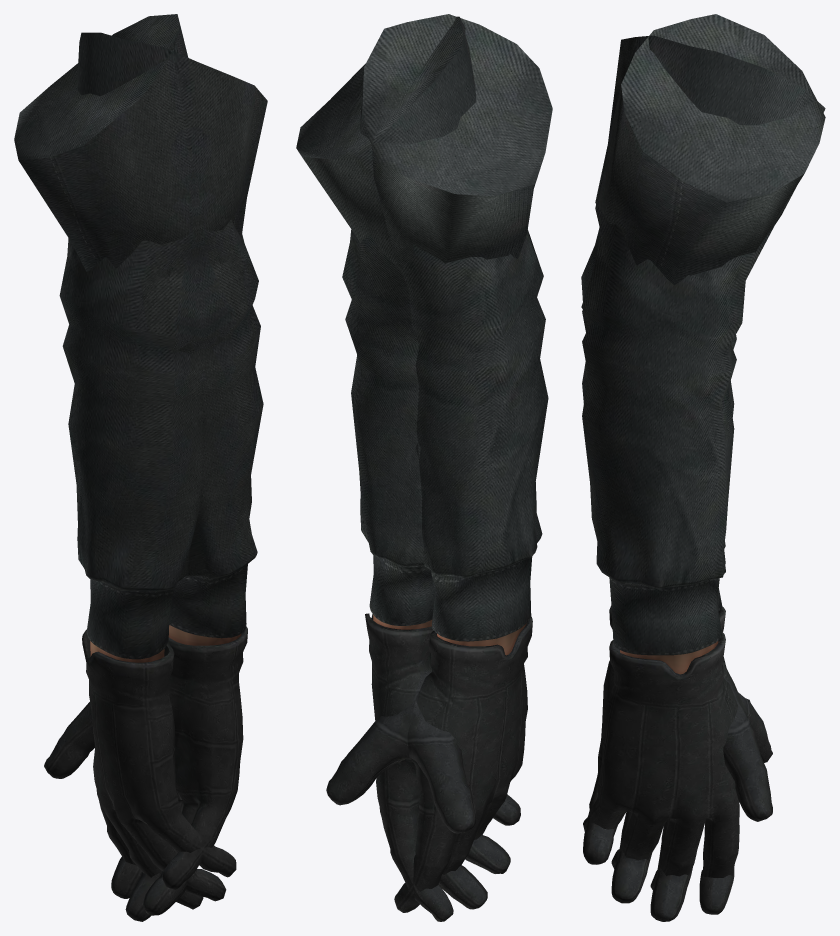
File: fp-arms.glb
3 renders of one model, left to right at view 1: azimuth 30°, elevation 25°; view 2: azimuth 150°, elevation 25°; view 3: azimuth 270°, elevation 25°, orthographic.
Parts seen in each view (by area): view 1: armR, armL; view 2: armR, armL; view 3: armL, armR.
Boxes of the visible parts, x1=… form: armR: x1=59, y1=32, x2=267, y2=909; armL: x1=14, y1=14, x2=263, y2=921; armR: x1=296, y1=16, x2=548, y2=912; armL: x1=342, y1=14, x2=552, y2=921; armL: x1=581, y1=35, x2=825, y2=889; armR: x1=581, y1=14, x2=825, y2=921.
Size of the model in its own units: 0.3327 by 1.2 by 0.3029.
Materials: 1 (1 with a texture image).
